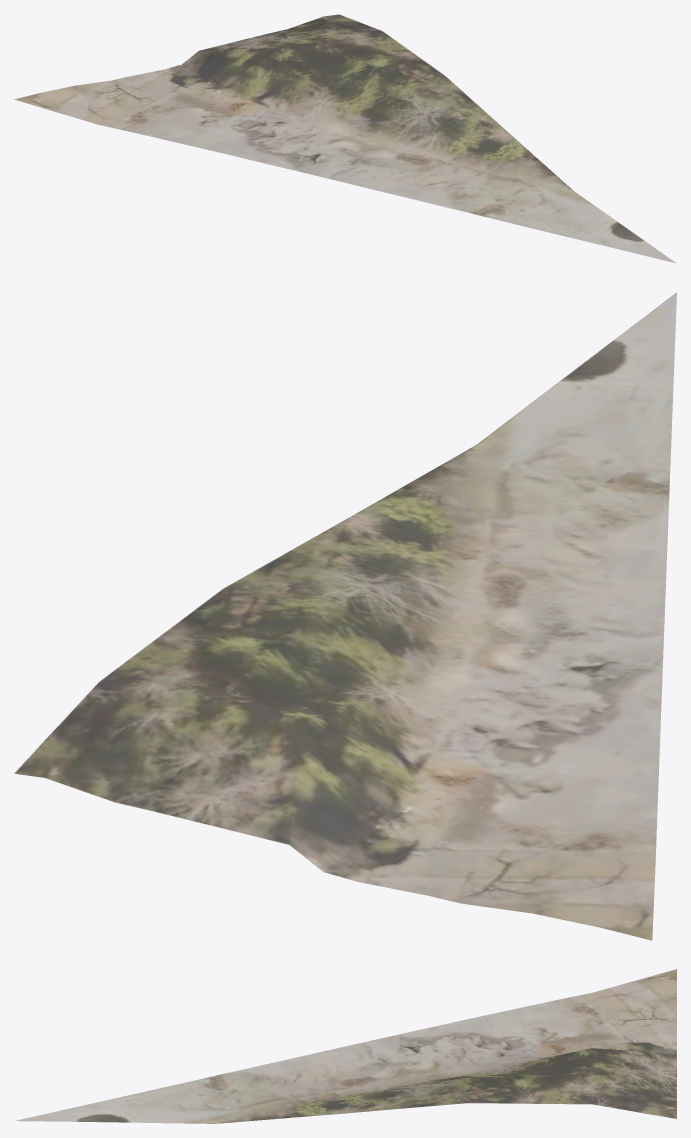
Rendered from CM_Terrain_24491073_6815288.fbx.
3 views of the same model, one above another, from view 1: azimuth 30°, elevation 25°; view 2: azimuth 150°, elevation 25°; view 3: azimuth 270°, elevation 25° (orthographic). The views are drawn at different scales.
Visible parts, largest first — view 1: CM_Terrain_24491073_6815288_LOD0; view 2: CM_Terrain_24491073_6815288_LOD0; view 3: CM_Terrain_24491073_6815288_LOD0.
Part boxes in pixels (x1,y1,x2,y2): CM_Terrain_24491073_6815288_LOD0: (14,14,675,263); CM_Terrain_24491073_6815288_LOD0: (14,292,676,940); CM_Terrain_24491073_6815288_LOD0: (15,969,676,1123).
Size of what is drawn, in the model's own units: 43.94 by 4.34 by 79.04.
